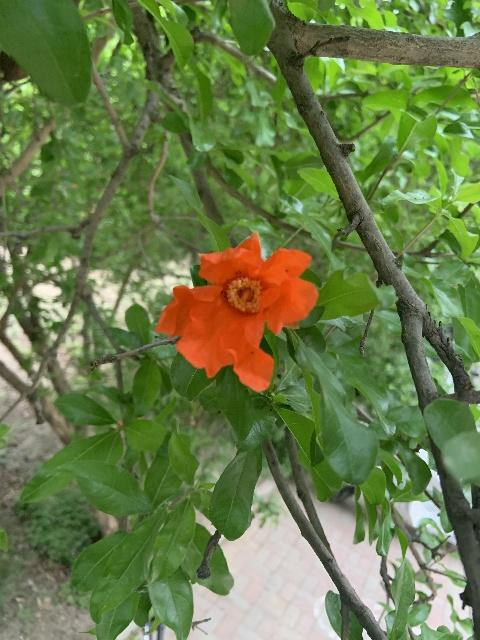flower: (154, 230, 319, 392)
